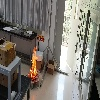fire: (28, 46, 38, 80)
